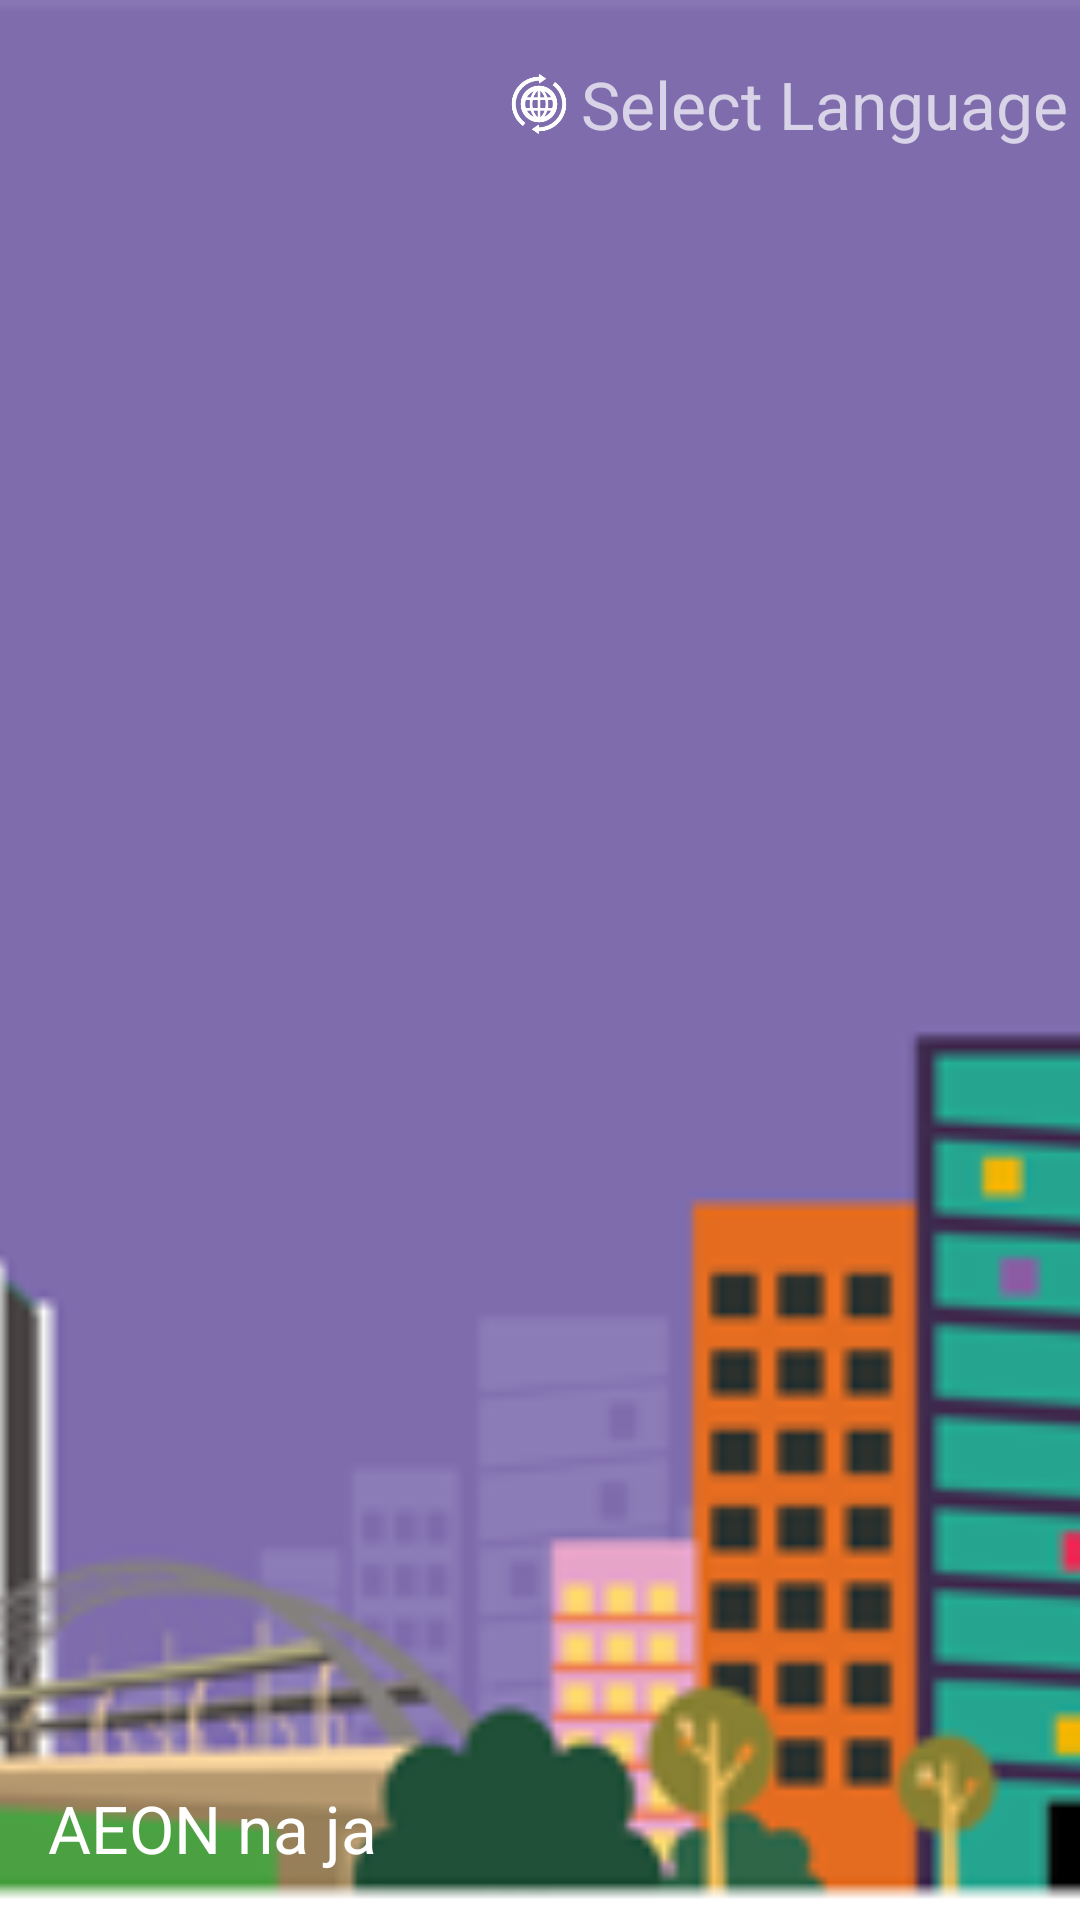

Screen size 1080x1920. Icon name, then its box in pixels as {"left": x1, "top": y1, "right": x2, "bottom": y2}:
globe: {"left": 512, "top": 74, "right": 566, "bottom": 134}
